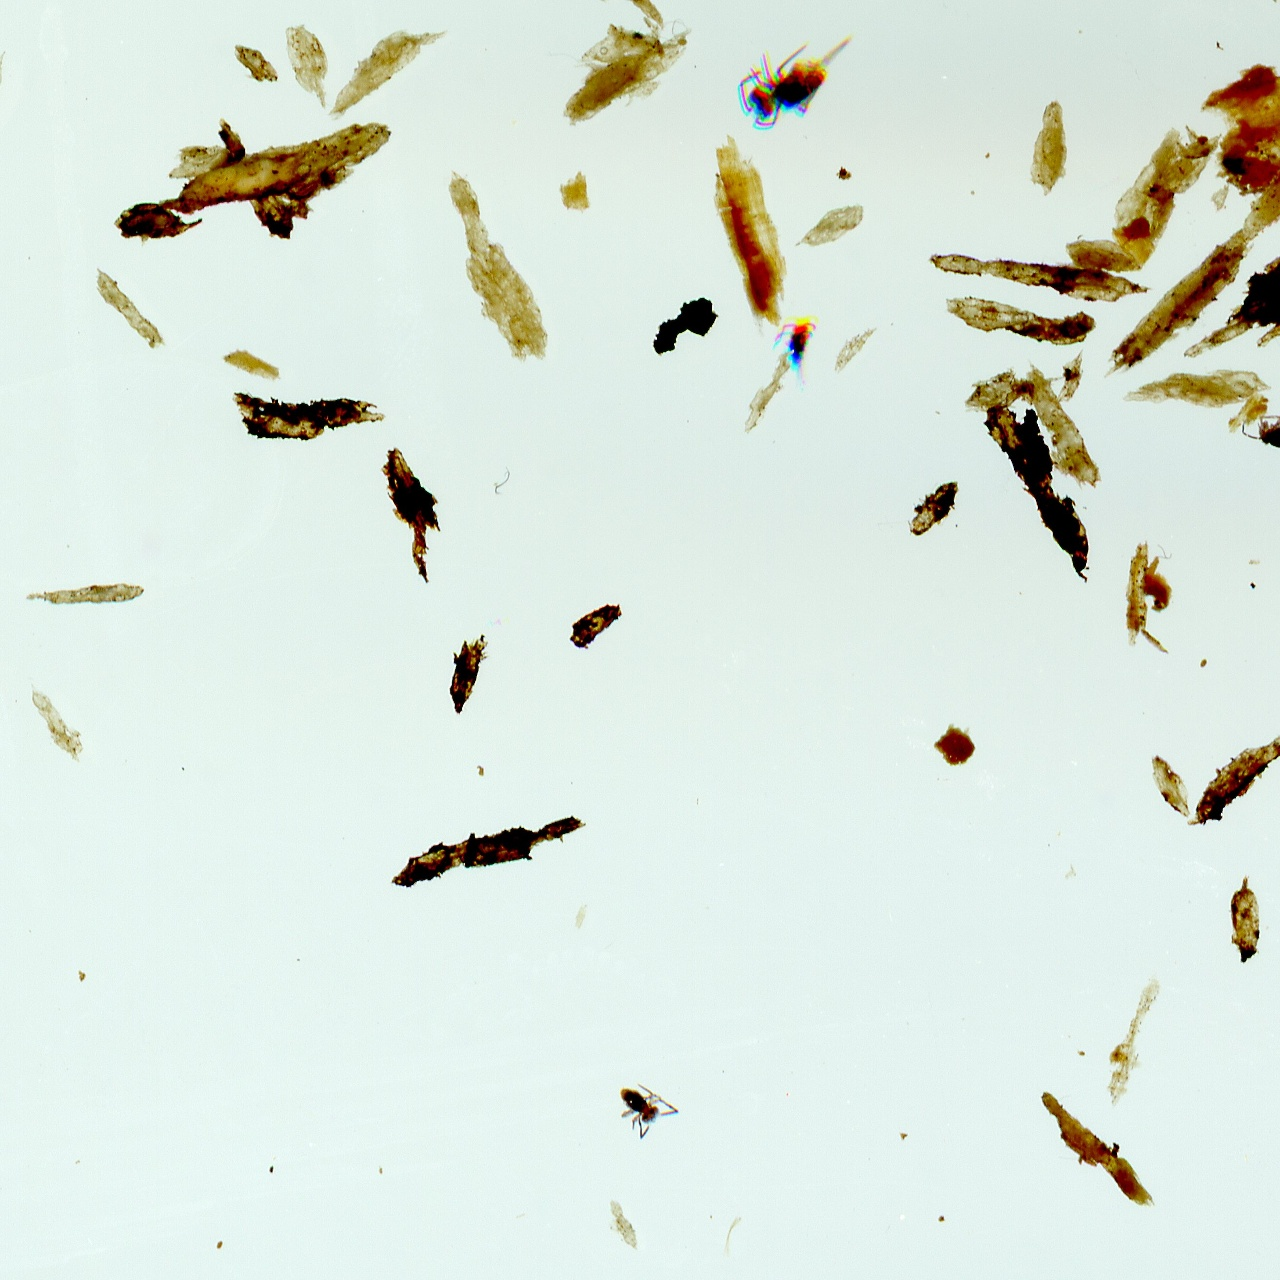arthropod: (735, 33, 855, 134), (615, 1080, 681, 1141), (771, 318, 819, 388), (1239, 410, 1280, 451)
